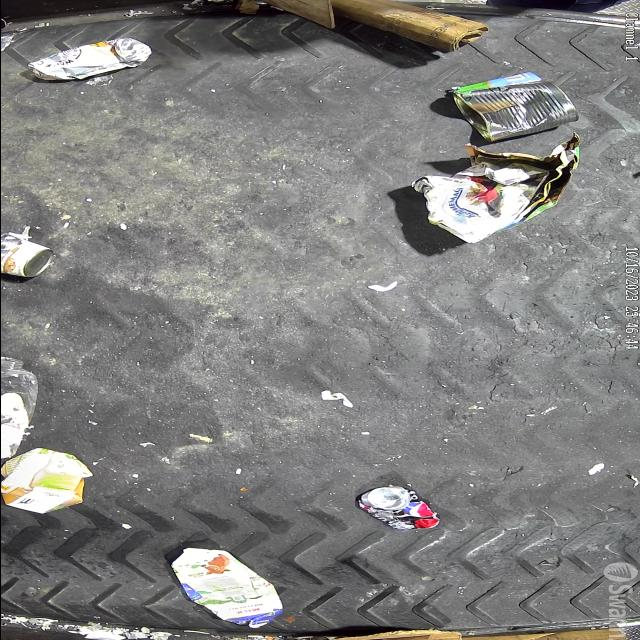can: (452, 80, 580, 143), (26, 38, 152, 80), (355, 486, 438, 531), (0, 232, 52, 278)
non_white_jug: (170, 548, 282, 628), (1, 446, 92, 514)
plastic_bottle: (0, 356, 38, 458)
